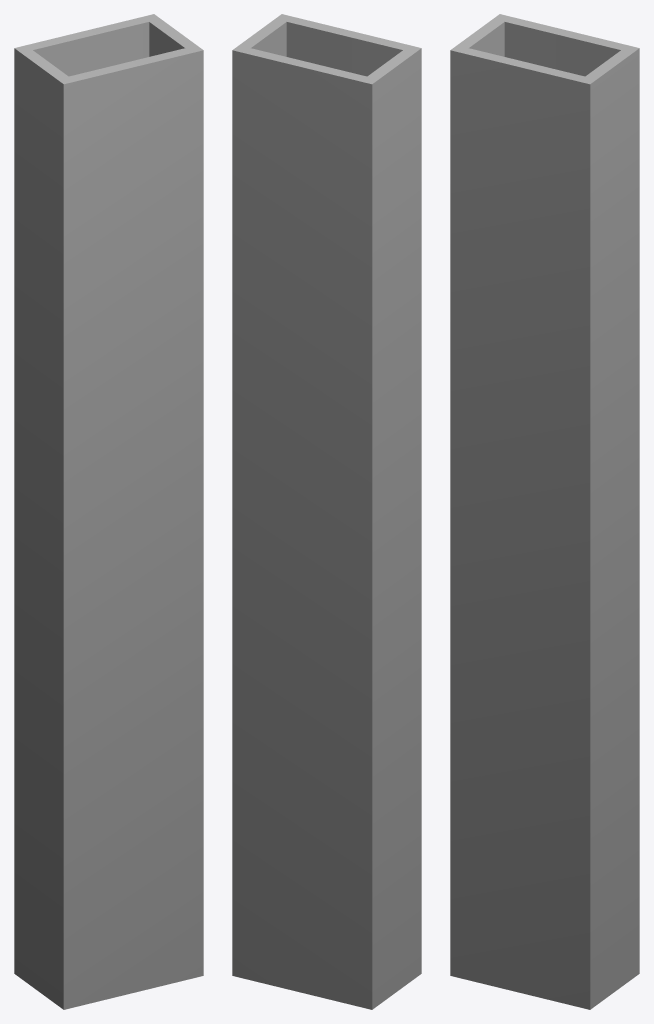
The model's file is SMG1_02_2.fbx.
3 renders of one model, left to right at view 1: azimuth 30°, elevation 25°; view 2: azimuth 150°, elevation 25°; view 3: azimuth 330°, elevation 25°, orthographic.
Parts seen in each view (by area): view 1: SMG1_02_2; view 2: SMG1_02_2; view 3: SMG1_02_2.
Boxes of the visible parts, <box> form: SMG1_02_2: <box>14,14,203,1009</box>; SMG1_02_2: <box>232,14,421,1009</box>; SMG1_02_2: <box>450,14,639,1009</box>.
Size of the model in its own units: 0.0354 by 0.2241 by 0.0217.
